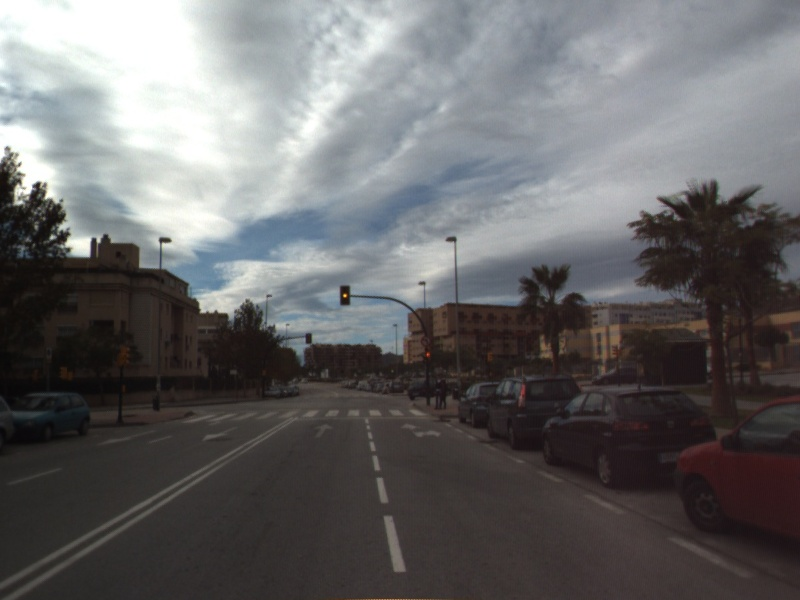STRAIGHT: (311, 421, 336, 439)
STRAIGHT_RIGHT: (398, 421, 443, 439)
